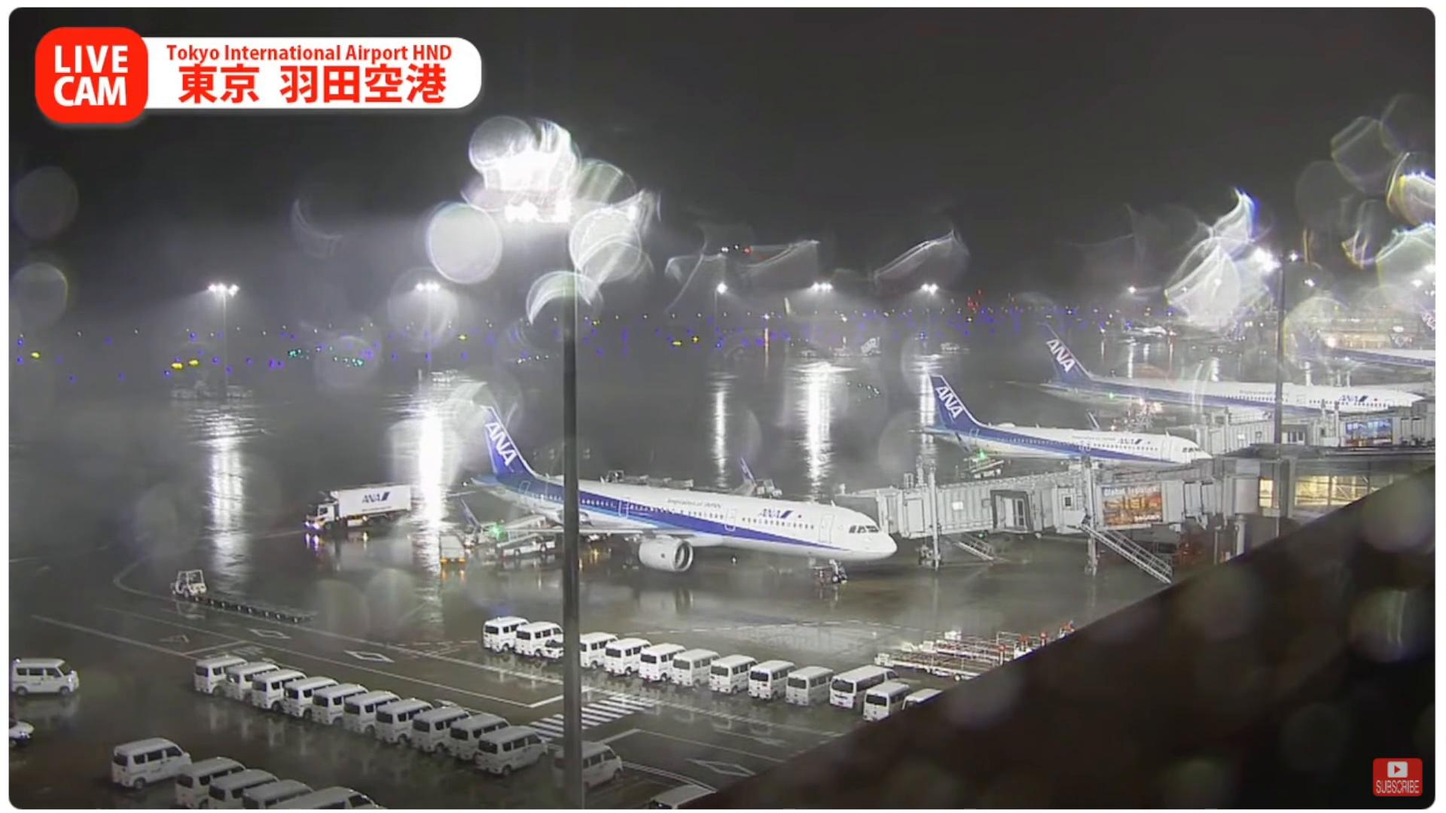Aerobridge: (839, 461, 1195, 539), (988, 472, 1227, 537)
Airplane: (461, 406, 899, 585)
Baggage truck: (438, 527, 477, 567)
Catering: (304, 481, 412, 533)
Dolly: (189, 591, 322, 625), (616, 475, 738, 492)
JCPL: (874, 647, 1012, 682), (913, 631, 1059, 660)
Skyloader: (485, 522, 567, 559)
Tractor: (168, 568, 208, 600), (753, 480, 779, 497)
Window: (1291, 475, 1415, 508)
